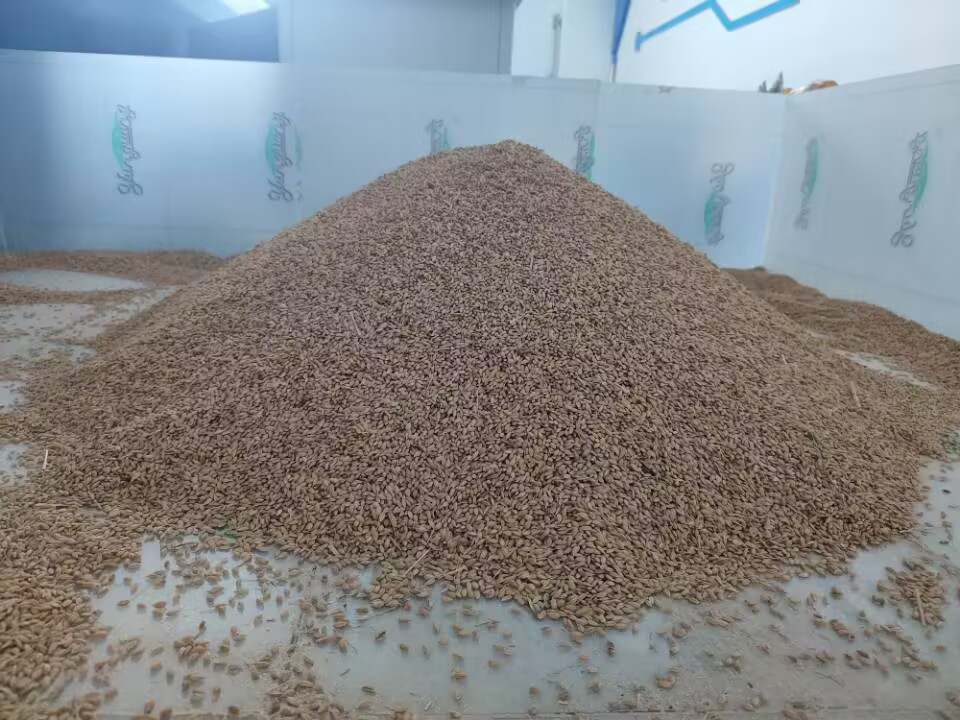Grain: (114, 137, 923, 554)
